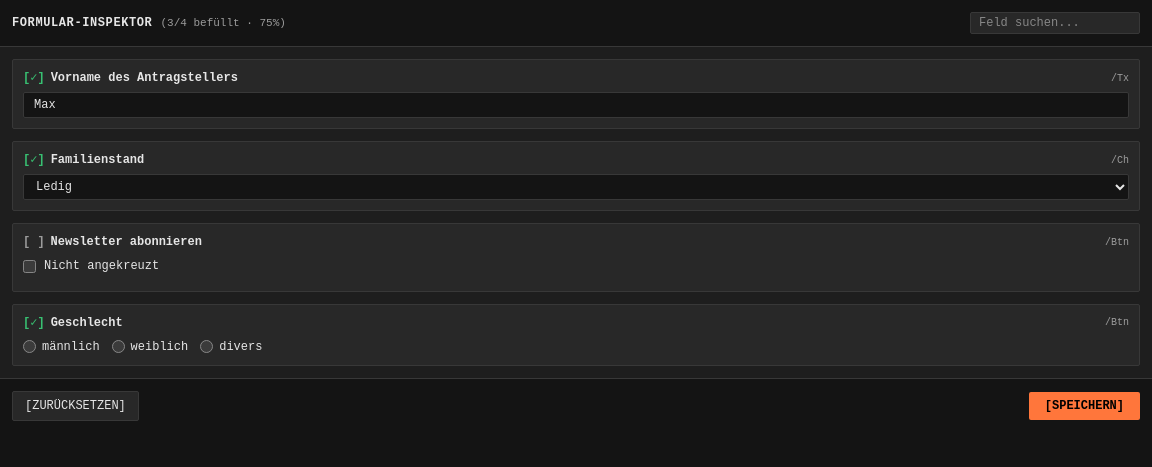
Test: FormInspector Component › handles field edits and successful saving via fillFormDirect
This screenshot has width=1152, height=467.
Replace the text in the field with test id "field-input-Vorname" with "Moritz" at {"x": 576, "y": 105}, box [23,92,1129,118]
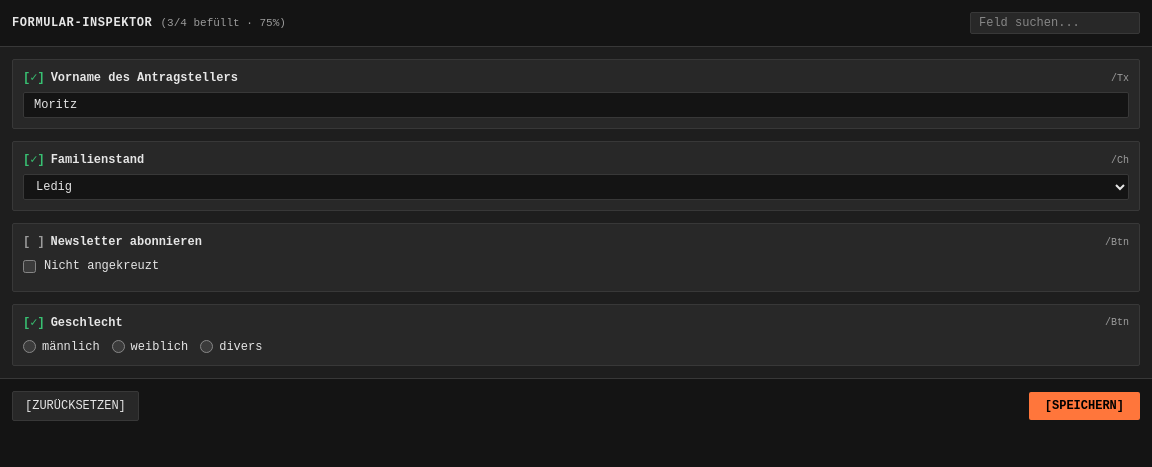
Click the button with test id "inspector-save-btn" at {"x": 1084, "y": 406}, box [1029,392,1140,420]
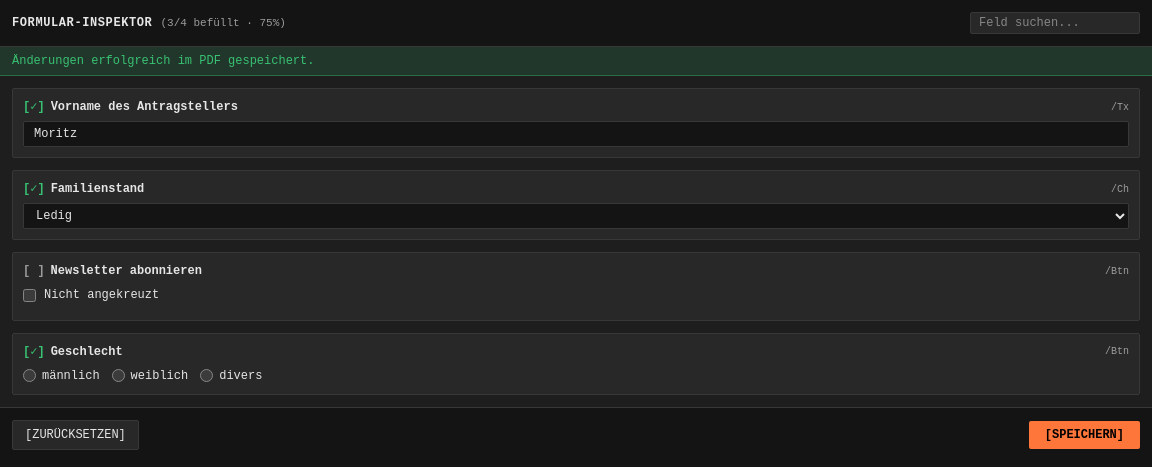
Now the text "Änderungen erfolgreich im PDF gespeichert." is shown, box [0,47,1151,76]
